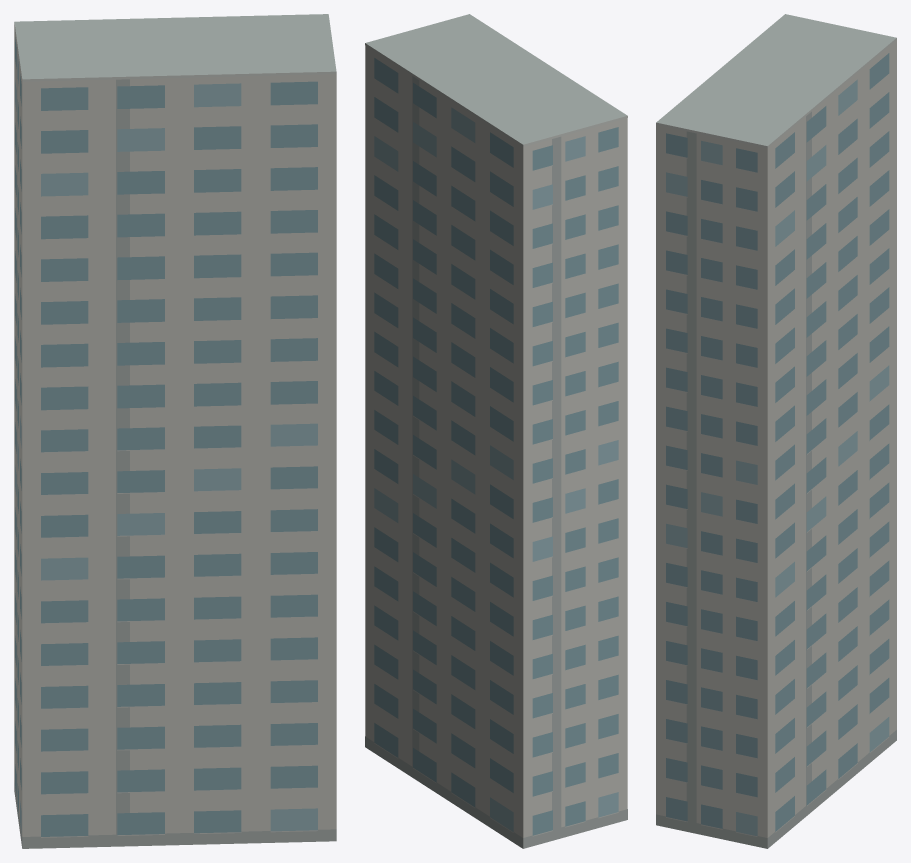
Rendered from residential-23d566c6-9e2d-4555-8562-5ea31e554ff6.glb.
The picture shows the model from 3 angles, left to right: view 1: azimuth 30°, elevation 25°; view 2: azimuth 150°, elevation 25°; view 3: azimuth 270°, elevation 25°; orthographic projection. The views are drawn at different scales.
Parts seen in each view (by area): view 1: residential-23d566c6-9e2d-4555-8562-5ea31e554ff6.tmp; view 2: residential-23d566c6-9e2d-4555-8562-5ea31e554ff6.tmp; view 3: residential-23d566c6-9e2d-4555-8562-5ea31e554ff6.tmp.
Boxes of the visible parts, left/top/right/bottom form: residential-23d566c6-9e2d-4555-8562-5ea31e554ff6.tmp: left=14, top=14, right=336, bottom=848; residential-23d566c6-9e2d-4555-8562-5ea31e554ff6.tmp: left=365, top=14, right=627, bottom=848; residential-23d566c6-9e2d-4555-8562-5ea31e554ff6.tmp: left=656, top=14, right=896, bottom=848.
Bounding box in the file's own units: 29.46 × 73 × 22.68.
